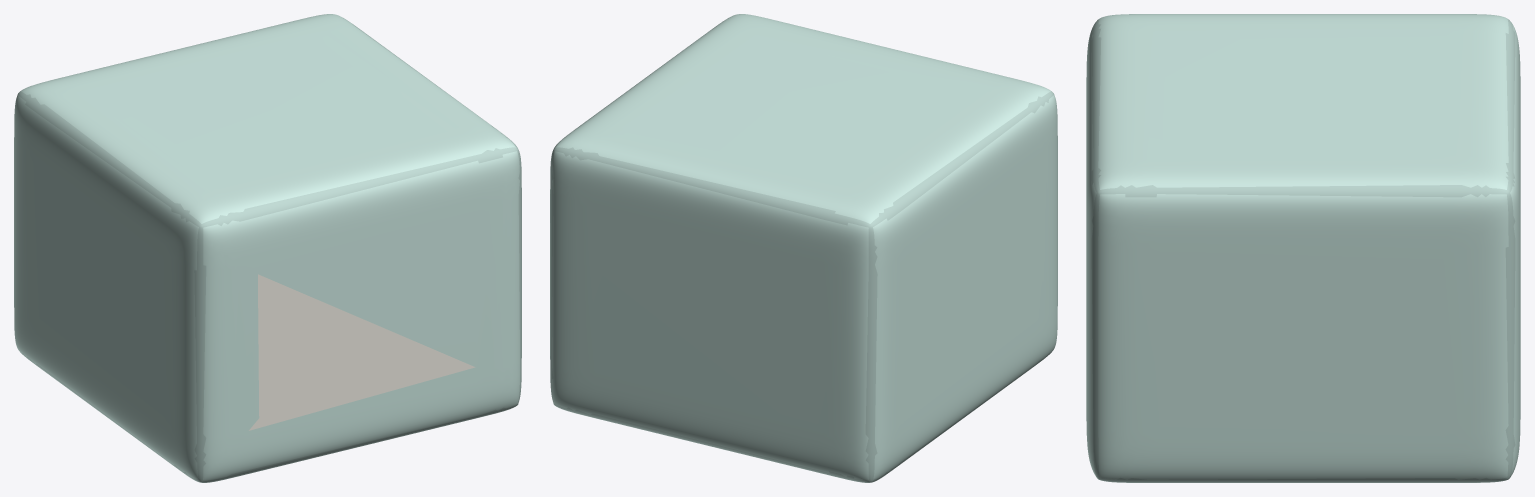
File: gel_cube.glb
3 renders of one model, left to right at view 1: azimuth 30°, elevation 25°; view 2: azimuth 150°, elevation 25°; view 3: azimuth 270°, elevation 25°, orthographic. The views are drawn at different scales.
Visible parts, largest first — view 1: gel_cube; view 2: gel_cube; view 3: gel_cube.
Boxes of the visible parts, x1,y1,x2,y2 form: gel_cube: (14, 14, 521, 482); gel_cube: (550, 14, 1057, 482); gel_cube: (1086, 14, 1520, 482).
Size of the model in its own units: 36.21 by 28.16 by 36.21.
